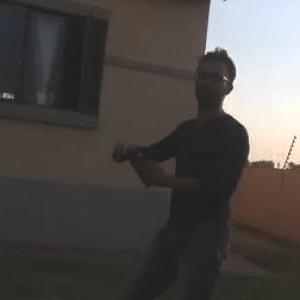follow: (103, 40, 248, 299)
